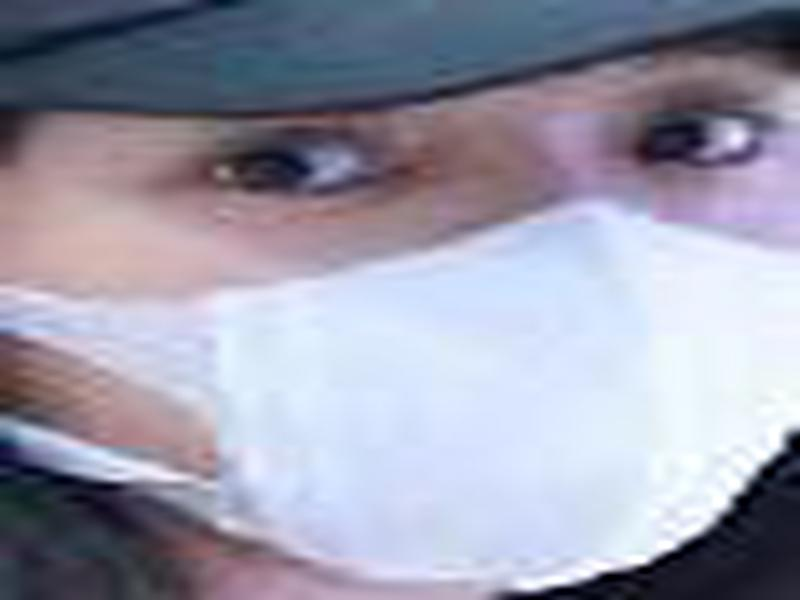with_mask: (1, 30, 798, 590)
